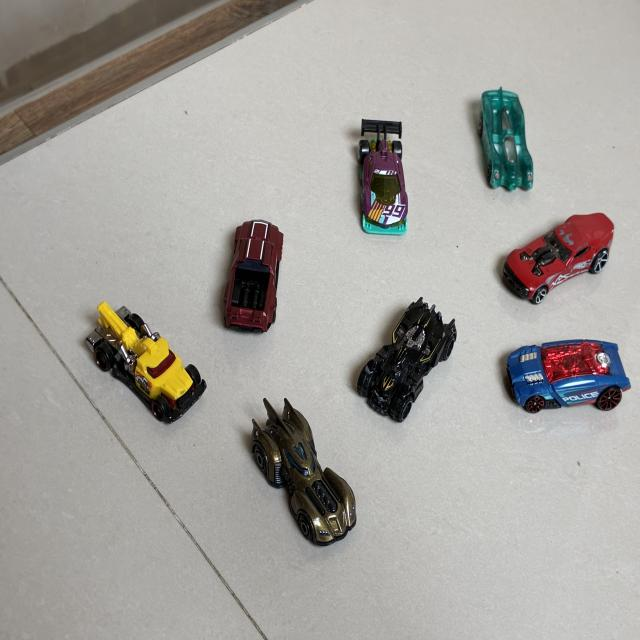cars: (251, 399, 356, 545), (87, 302, 206, 422), (357, 298, 457, 421), (503, 213, 613, 304), (507, 340, 630, 413), (224, 220, 283, 332), (358, 120, 408, 234), (479, 88, 533, 189)
